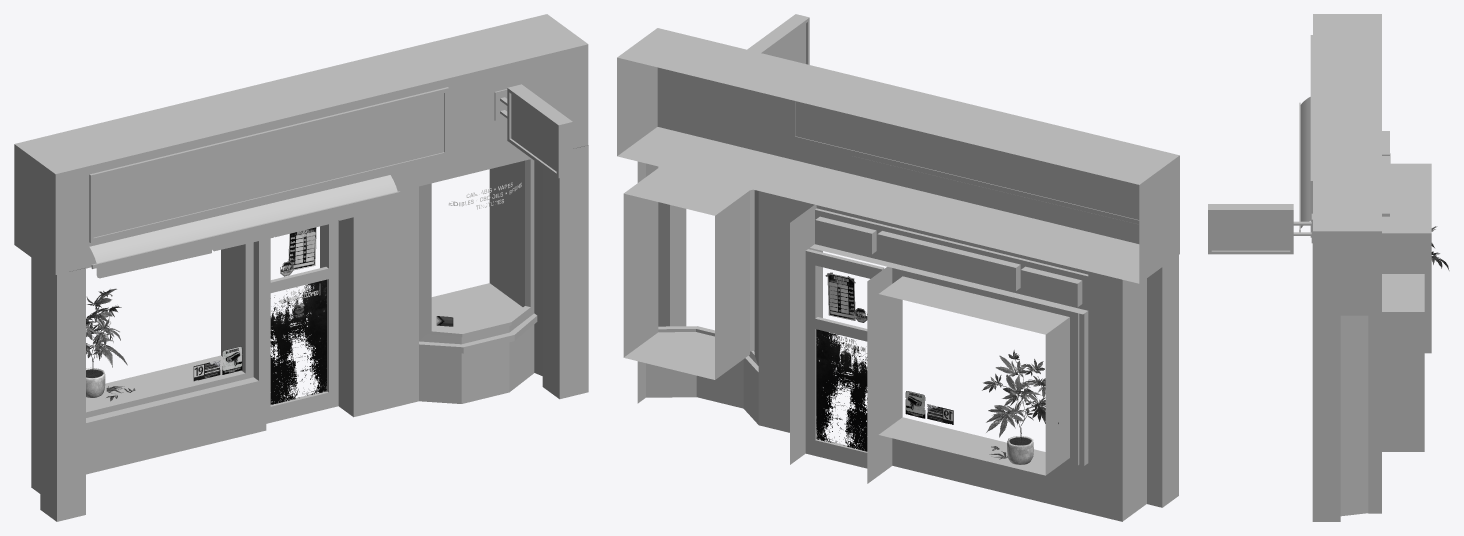
File: Dispensary.fbx
The picture shows the model from 3 angles, left to right: view 1: azimuth 30°, elevation 25°; view 2: azimuth 150°, elevation 25°; view 3: azimuth 270°, elevation 25°; orthographic projection. The views are drawn at different scales.
Parts seen in each view (by area): view 1: outer_front, store_front, front_door, weed_plant, decals; view 2: outer_front, store_front, front_door, weed_plant, decals; view 3: outer_front, store_front.
Part boxes in pixels (x1,y1,x2,y2): outer_front: [14, 14, 588, 521]; store_front: [86, 159, 537, 474]; front_door: [266, 216, 338, 423]; weed_plant: [86, 288, 135, 401]; decals: [193, 182, 521, 381]; outer_front: [617, 14, 1179, 521]; store_front: [623, 161, 1122, 521]; front_door: [805, 249, 884, 468]; weed_plant: [982, 350, 1058, 464]; decals: [905, 391, 953, 424]; outer_front: [1208, 14, 1381, 521]; store_front: [1368, 131, 1431, 513].
Size of the model in its own units: 550 by 343 by 258.
